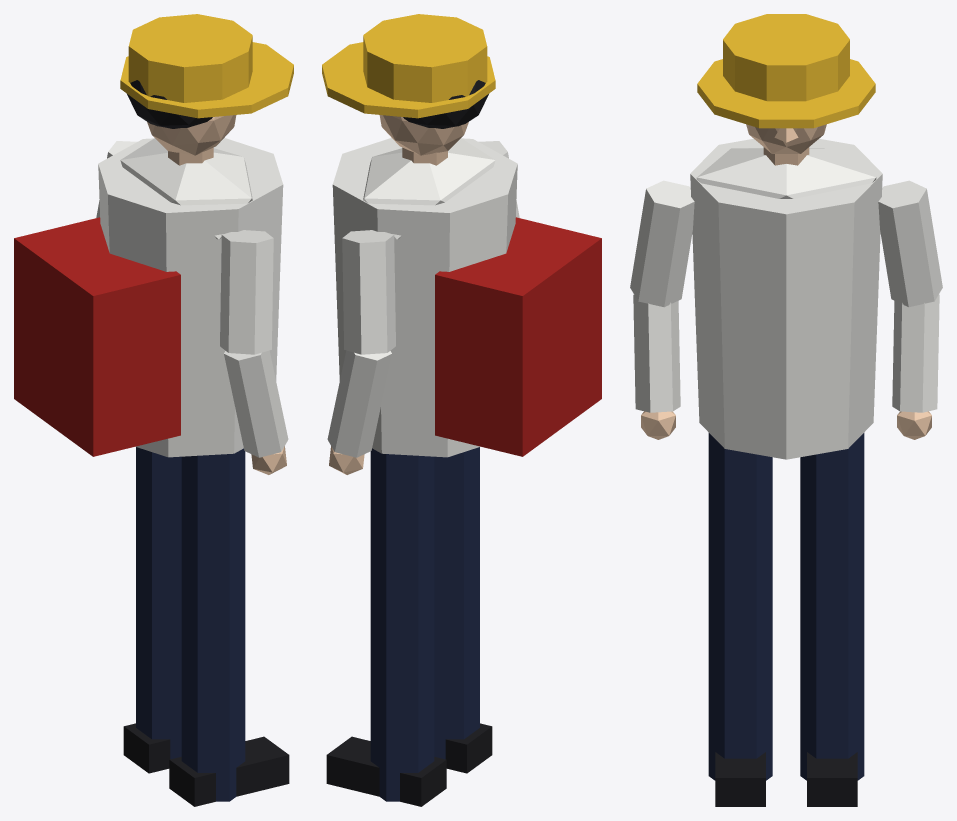
Rendered from skolbarn.glb.
3 views of the same model, side by side, from view 1: azimuth 30°, elevation 25°; view 2: azimuth 150°, elevation 25°; view 3: azimuth 270°, elevation 25° (orthographic).
Visible parts, largest first — view 1: skolbarn; view 2: skolbarn; view 3: skolbarn.
Boxes of the visible parts, box(x1,y1,x2,y2) form: skolbarn: box(14, 14, 293, 806); skolbarn: box(322, 14, 601, 806); skolbarn: box(630, 14, 942, 806).
Size of the model in its own units: 0.4131 by 1.28 by 0.4915.
